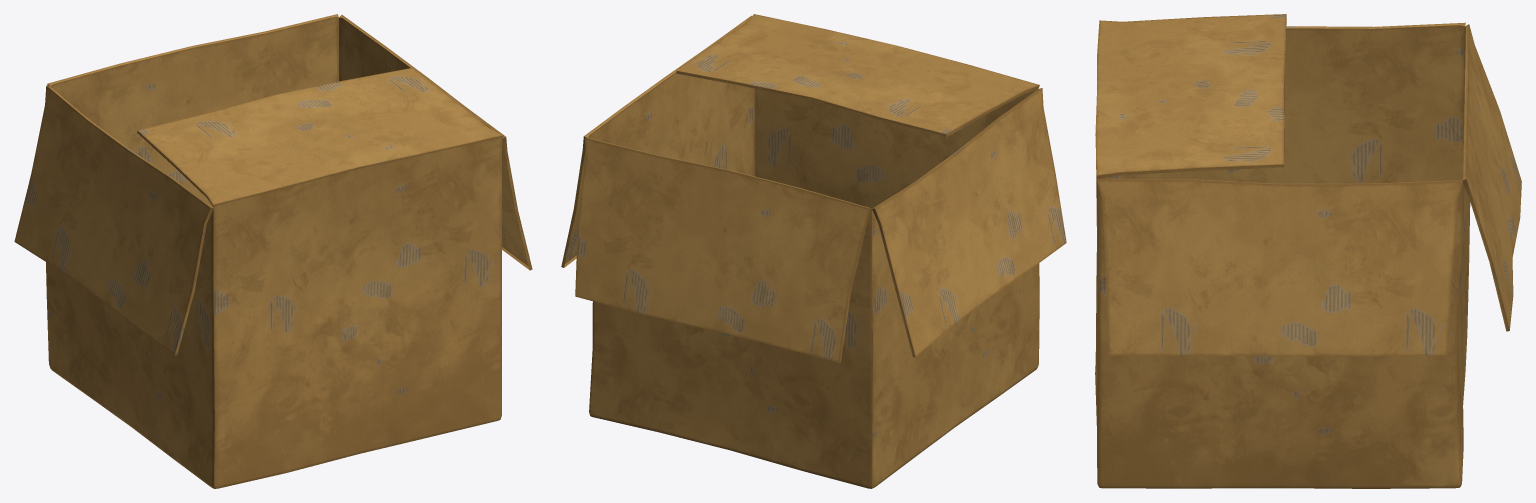
File: Cardboard box.fbx
3 views of the same model, side by side, from view 1: azimuth 30°, elevation 25°; view 2: azimuth 150°, elevation 25°; view 3: azimuth 270°, elevation 25° (orthographic). The views are drawn at different scales.
Parts seen in each view (by area): view 1: small_Cardboard_Box_1; view 2: small_Cardboard_Box_1; view 3: small_Cardboard_Box_1.
Boxes of the visible parts, x1=… form: small_Cardboard_Box_1: x1=14, y1=14, x2=532, y2=488; small_Cardboard_Box_1: x1=561, y1=14, x2=1066, y2=488; small_Cardboard_Box_1: x1=1095, y1=14, x2=1521, y2=488.
Size of the model in its own units: 3.44 by 2.73 by 3.19.
